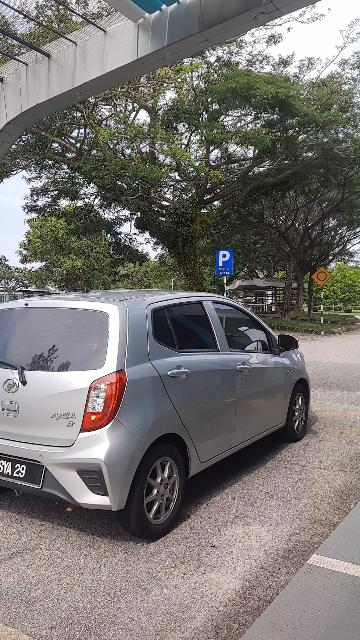car: (1, 288, 329, 539)
